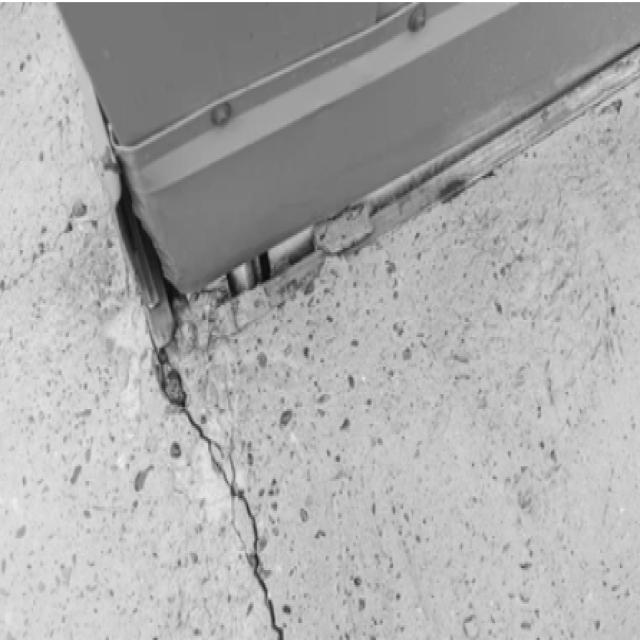diagonal crack: (151, 337, 283, 639)
